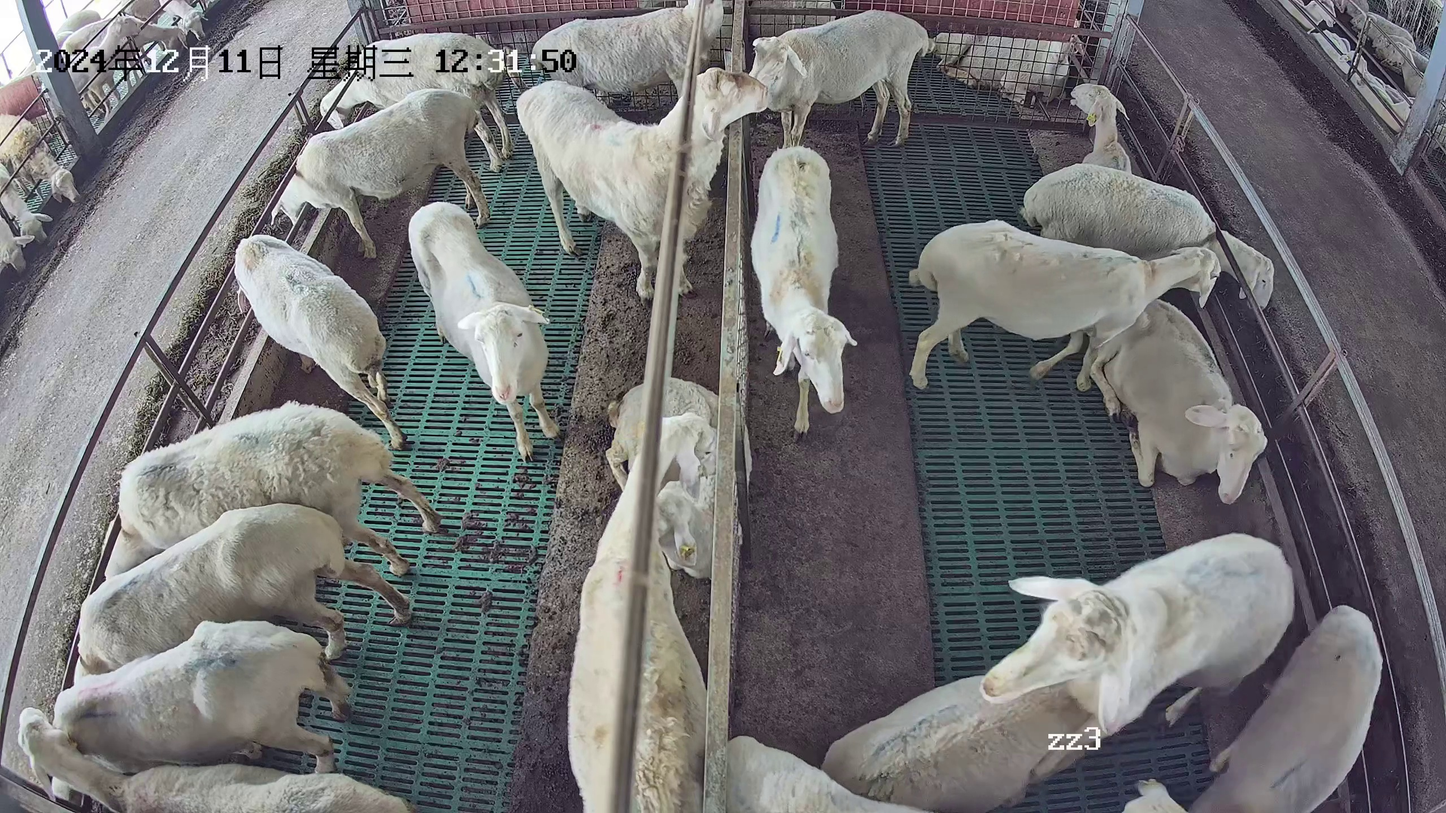Smounting: (815, 530, 1296, 813)
mounted: (818, 672, 1102, 810)
